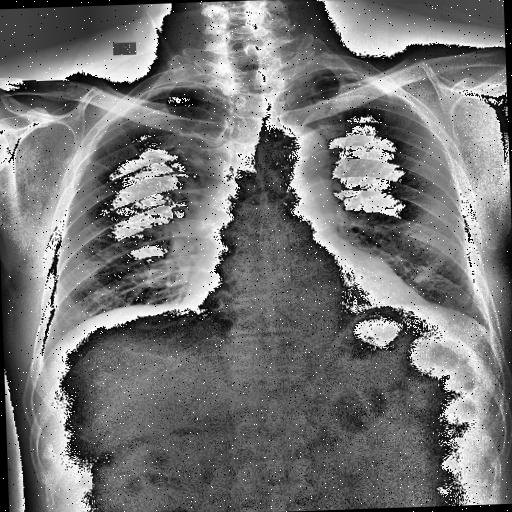0- Aortic enlargement: (258, 126, 334, 200), (254, 124, 329, 192), (258, 124, 330, 182)
11- Pleural thickening: (70, 123, 110, 188), (136, 74, 224, 102), (290, 66, 374, 86), (135, 80, 211, 100)
13- Pulmonary fibrosis: (89, 160, 115, 176), (92, 161, 114, 176), (90, 160, 112, 174)
3- Cardiomegaly: (186, 254, 412, 324), (182, 264, 430, 322)
